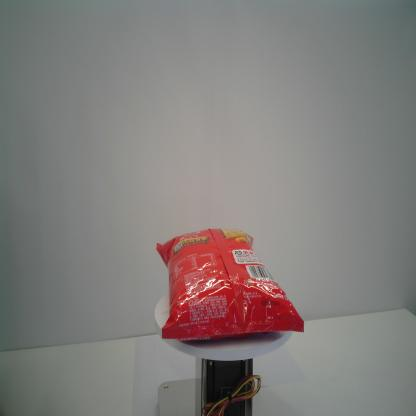Puffed Food: (156, 226, 305, 342)
